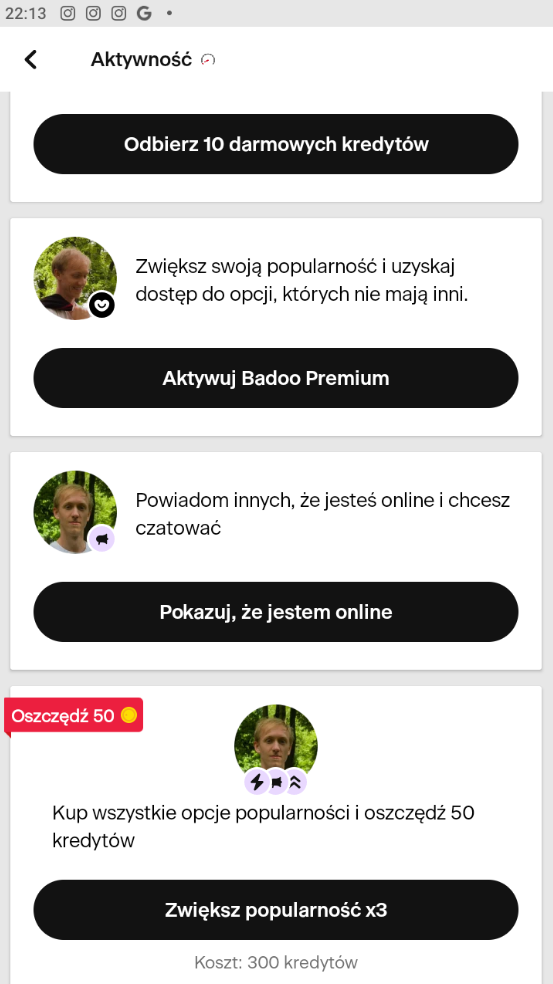kupno_button: (34, 874, 519, 940), (37, 579, 511, 644), (43, 347, 516, 407)
start_button: (39, 111, 519, 173)
